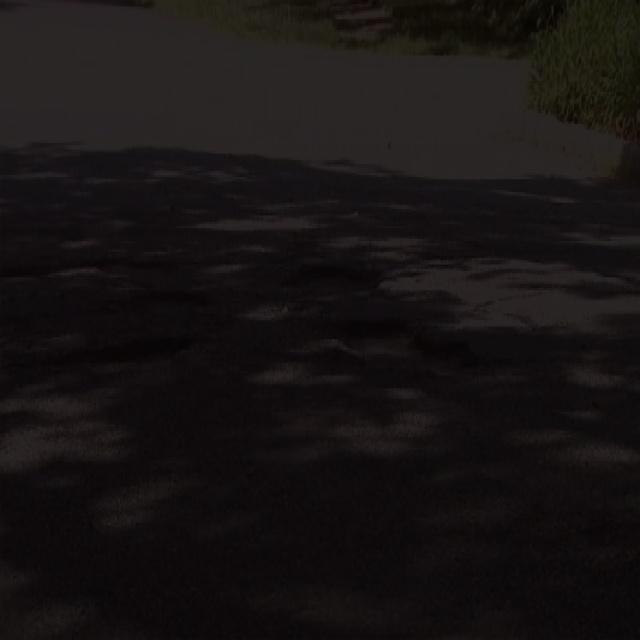Pothole: (316, 310, 495, 388), (0, 318, 193, 388), (0, 252, 198, 293), (276, 260, 391, 314), (141, 284, 212, 312)
